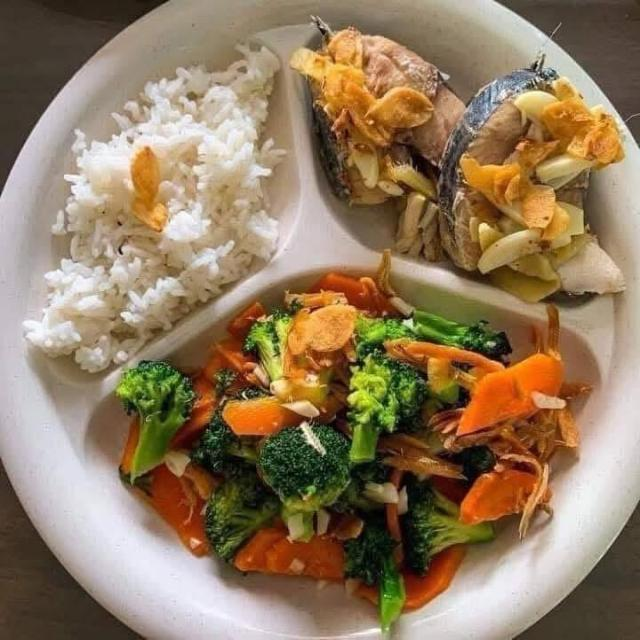Fish: (305, 23, 631, 301)
Plate: (0, 0, 544, 639)
Rice: (19, 36, 289, 371)
Vegetables: (117, 247, 591, 634)
